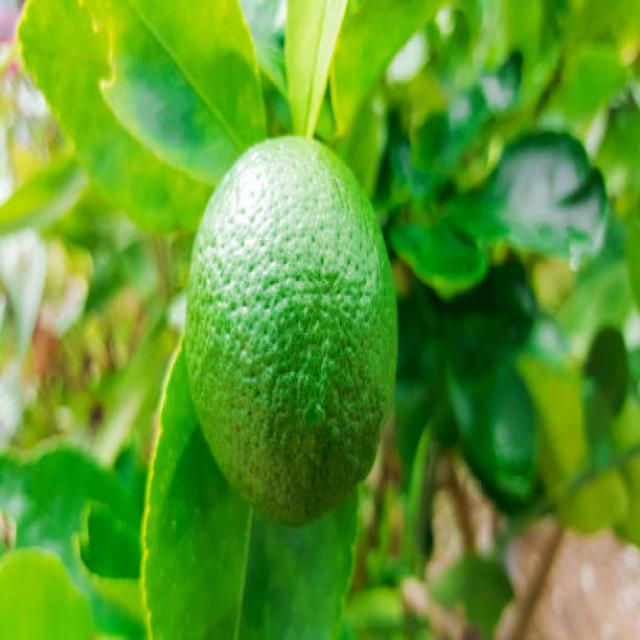Unripe: (184, 135, 398, 526)
